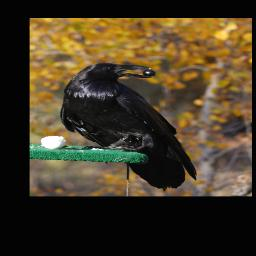Crow: (59, 63, 197, 191)
